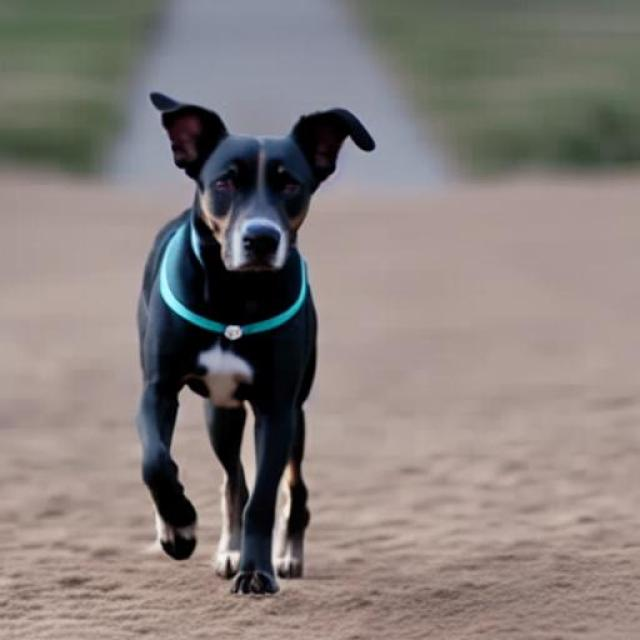Dog: (138, 90, 376, 596)
